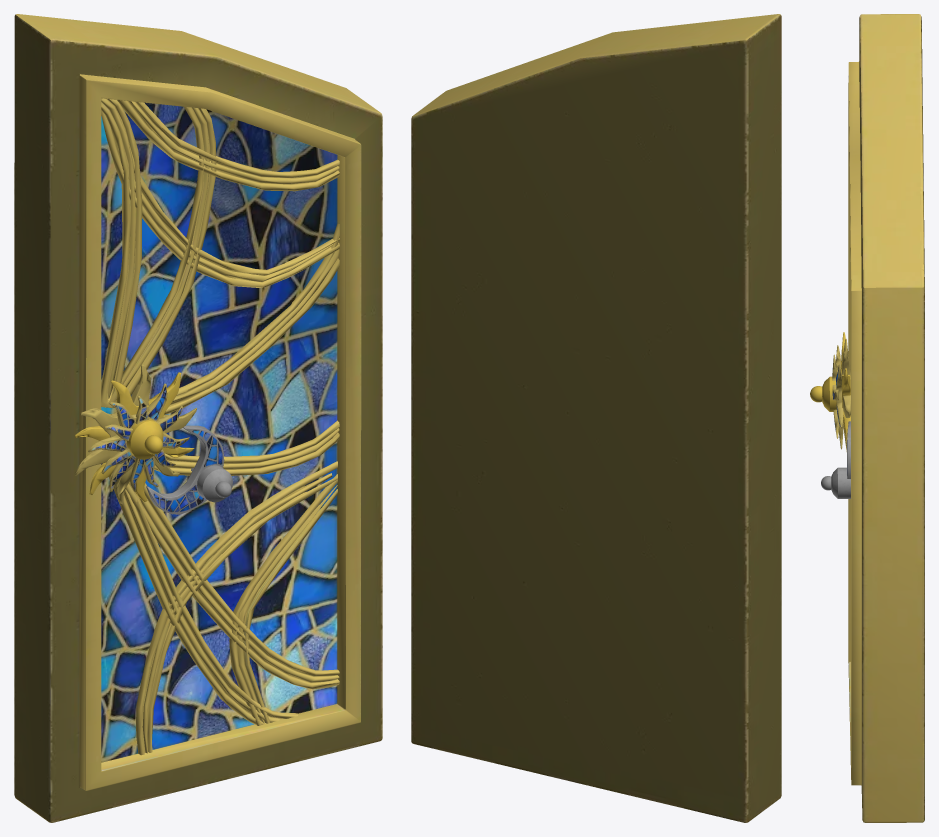
The model's file is doorRight_lowPoly.glb.
3 views of the same model, side by side, from view 1: azimuth 30°, elevation 25°; view 2: azimuth 150°, elevation 25°; view 3: azimuth 270°, elevation 25° (orthographic). The views are drawn at different scales.
Parts seen in each view (by area): view 1: polySurface15.005; view 2: polySurface15.005; view 3: polySurface15.005.
Part boxes in pixels (x1=…): polySurface15.005: x1=14, y1=14, x2=382, y2=822; polySurface15.005: x1=411, y1=14, x2=781, y2=822; polySurface15.005: x1=810, y1=14, x2=924, y2=822.
Bounding box in the file's own units: 0.1101 × 0.2457 × 0.0382.
4 materials, 4 textured.
